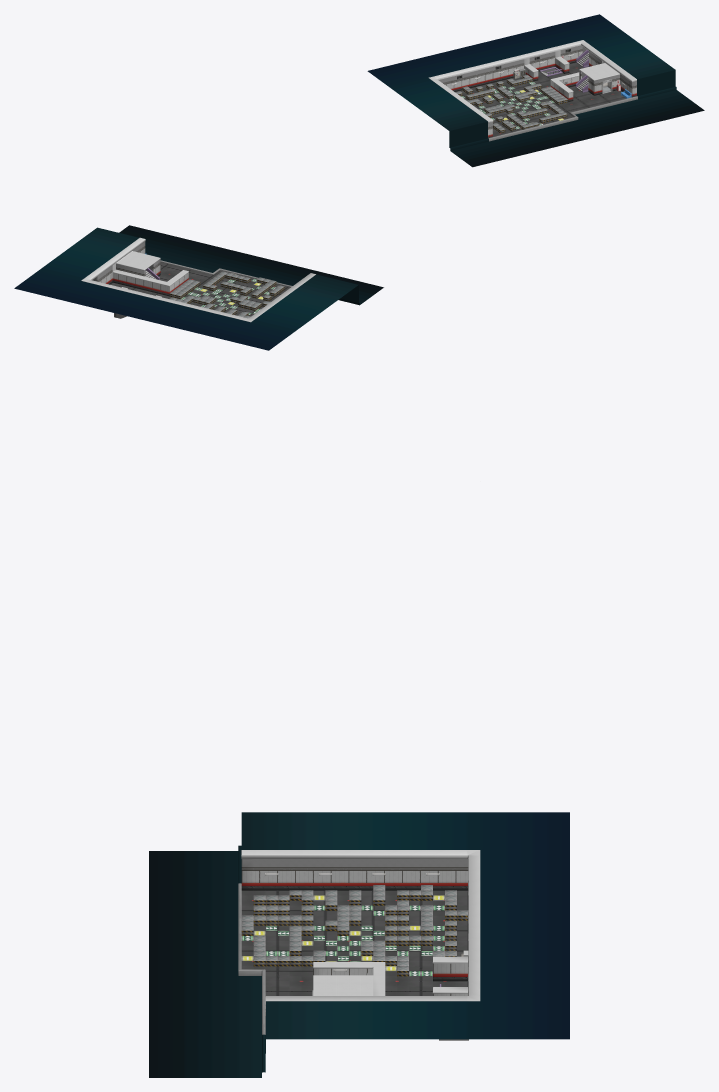
3 renders of one model, top to bottom at view 1: azimuth 30°, elevation 25°; view 2: azimuth 150°, elevation 25°; view 3: azimuth 270°, elevation 25°, orthographic. The views are drawn at different scales.
Parts seen in each view (by area): view 1: combg01_02, a98b145234bdb035c8ff13dc1f, ac47f54737722ce9fc3a4e, floor_02, aa632217f93adfd7adf4ebce, a10b65cfa729fe4353dfd7e8c6; view 2: combg01_02, ac47f54737722ce9fc3a4e, aa632217f93adfd7adf4ebce, floor_02, a98b145234bdb035c8ff13dc1f, a10b65cfa729fe4353dfd7e8c6; view 3: combg01_02, floor_02, aa632217f93adfd7adf4ebce, ac47f54737722ce9fc3a4e, a98b145234bdb035c8ff13dc1f, a10b65cfa729fe4353dfd7e8c6.
Boxes of the visible parts, bbox=[...] form: combg01_02: bbox=[367, 14, 704, 167]; a98b145234bdb035c8ff13dc1f: bbox=[439, 45, 636, 138]; ac47f54737722ce9fc3a4e: bbox=[428, 40, 637, 141]; floor_02: bbox=[455, 62, 625, 136]; aa632217f93adfd7adf4ebce: bbox=[455, 74, 568, 133]; a10b65cfa729fe4353dfd7e8c6: bbox=[461, 81, 554, 129]; combg01_02: bbox=[14, 225, 383, 350]; ac47f54737722ce9fc3a4e: bbox=[81, 237, 315, 322]; aa632217f93adfd7adf4ebce: bbox=[169, 271, 284, 318]; floor_02: bbox=[110, 262, 290, 316]; a98b145234bdb035c8ff13dc1f: bbox=[96, 242, 188, 296]; a10b65cfa729fe4353dfd7e8c6: bbox=[181, 278, 275, 315]; combg01_02: bbox=[149, 812, 569, 1077]; floor_02: bbox=[241, 890, 468, 995]; aa632217f93adfd7adf4ebce: bbox=[241, 885, 468, 976]; ac47f54737722ce9fc3a4e: bbox=[238, 850, 480, 1034]; a98b145234bdb035c8ff13dc1f: bbox=[241, 859, 468, 1015]; a10b65cfa729fe4353dfd7e8c6: bbox=[241, 905, 444, 976].
Bounding box in the file's own units: 11747 × 543 × 3522.
29 materials, 28 textured.
